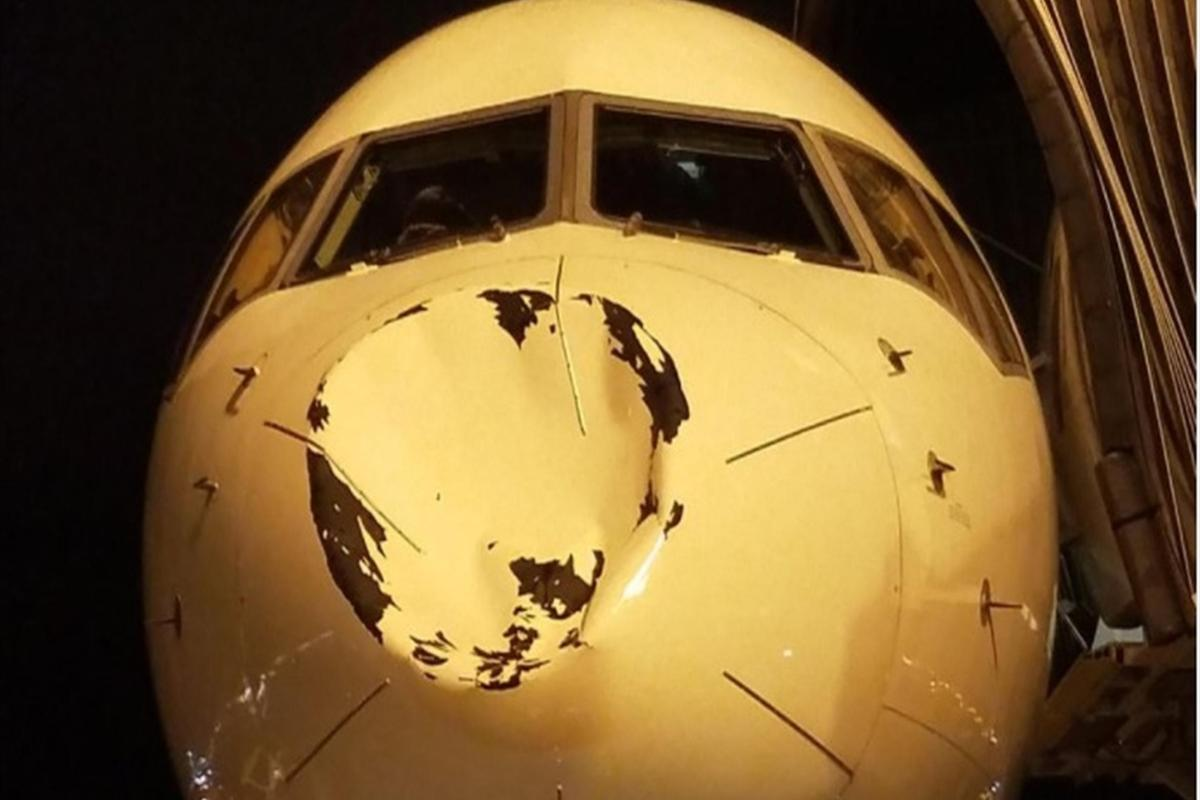Fuselage_damage: (293, 279, 695, 709)
